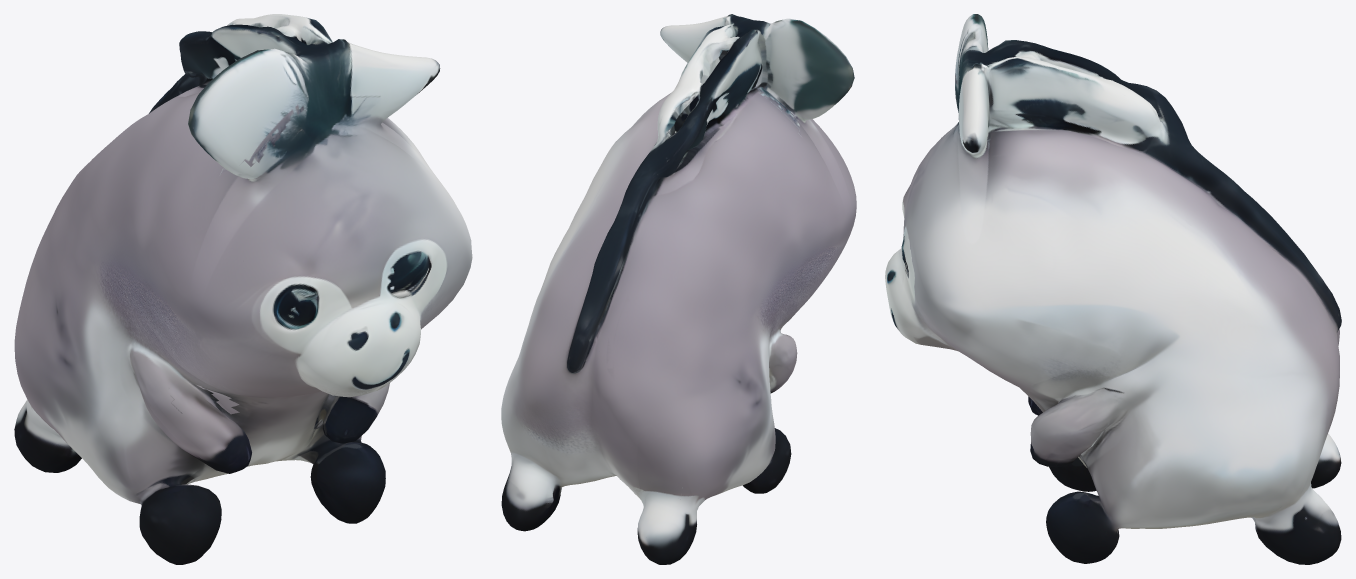
File: base_basic_shaded.glb
The picture shows the model from 3 angles, left to right: view 1: azimuth 30°, elevation 25°; view 2: azimuth 150°, elevation 25°; view 3: azimuth 270°, elevation 25°; orthographic projection. The views are drawn at different scales.
Parts seen in each view (by area): view 1: model; view 2: model; view 3: model.
Part boxes in pixels (x1=…): model: x1=14, y1=14, x2=472, y2=564; model: x1=501, y1=14, x2=856, y2=564; model: x1=885, y1=14, x2=1341, y2=564.
Bounding box in the file's own units: 1.01 × 1.9 × 1.64.
Materials: 1 (1 with a texture image).
